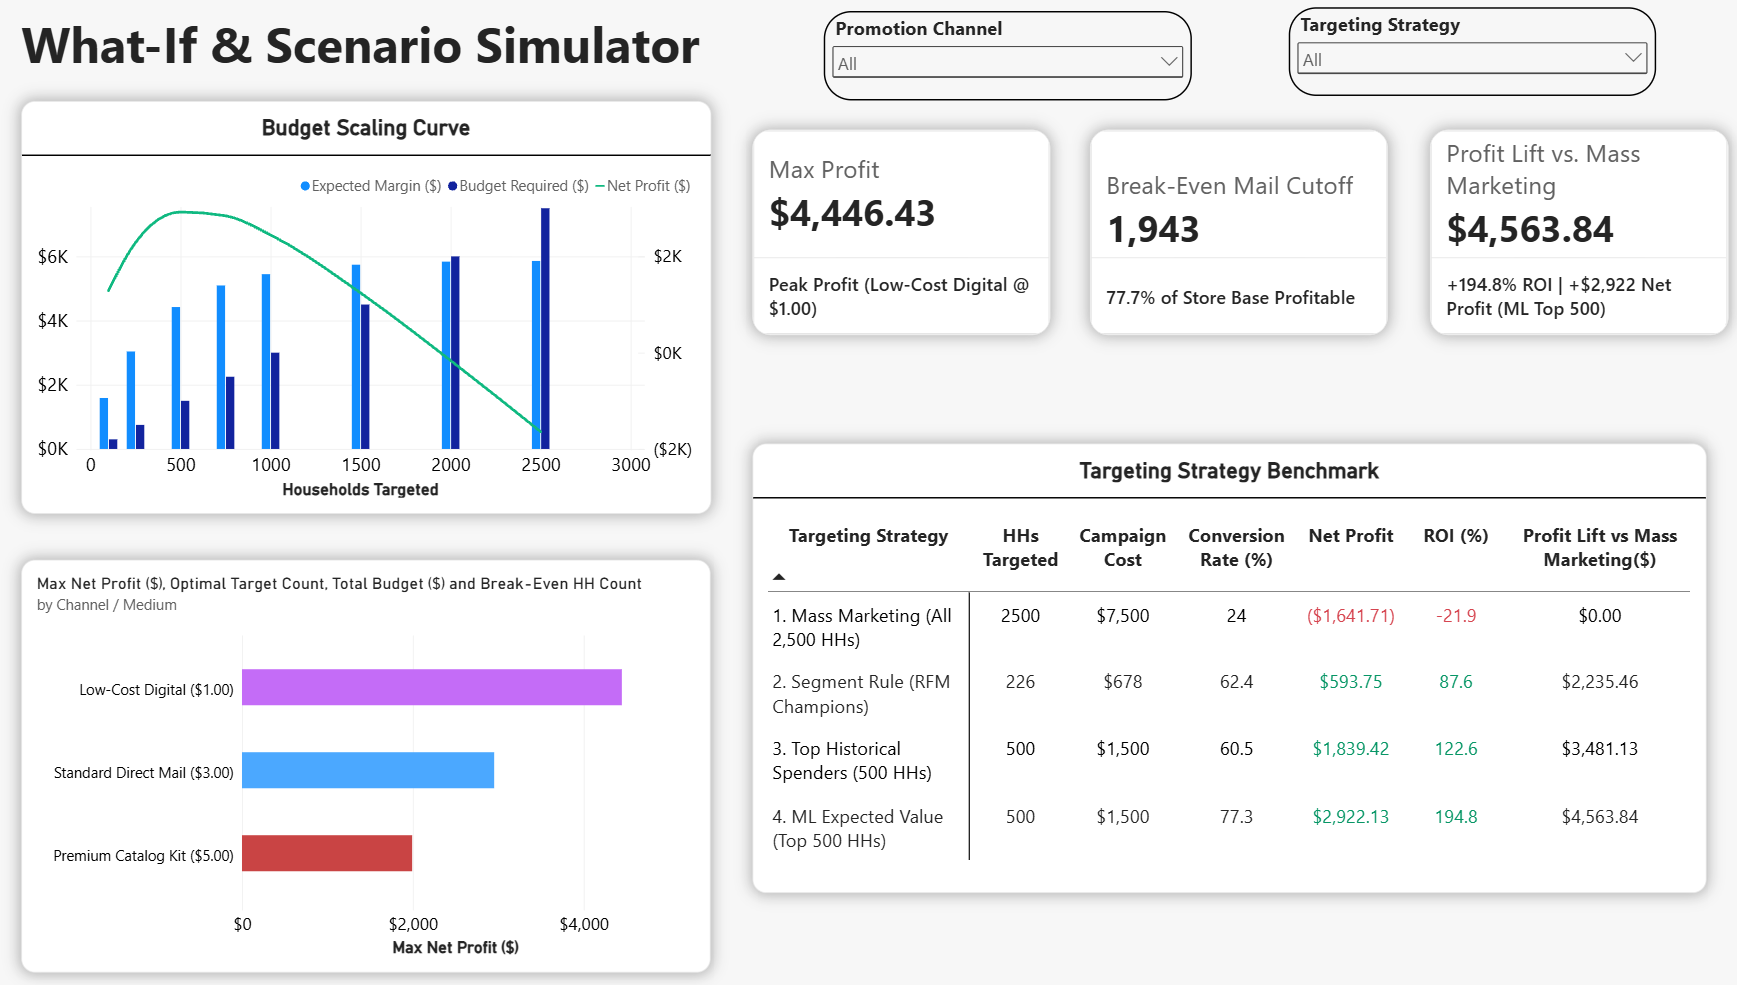

The page's visual inventory and layout, read from the dashboard file:
{"tool":"powerbi","page":{"name":"Scenario Simulator","canvas":[1920,1080],"ordinal":4},"visuals":[{"type":"textbox","box":[45.2,14.5,819.8,95.9],"z":0},{"type":"slicer","fields":{"Values":["pbi_scenario_channel_costs.Channel / Medium"]},"box":[921.1,16.3,401.7,97.7],"z":1},{"type":"slicer","fields":{"Values":["pbi_strategy_lift_benchmarks.Targeting Strategy"]},"box":[1427.8,12.7,401,97],"z":2},{"type":"cardVisual","fields":{"Data":["page5_measures.Channel Max Profit"]},"box":[843.3,146.6,325,224],"z":3},{"type":"cardVisual","fields":{"Data":["page5_measures.Selected Channel Break Even HHs"]},"box":[1210.7,146.6,325,224],"z":4},{"type":"cardVisual","fields":{"Data":["page5_measures.Selected Strategy Profit Lift"]},"box":[1581.6,146.6,325.7,224.4],"z":5},{"type":"lineClusteredColumnComboChart","title":"Budget Scaling Curve","fields":{"Category":["pbi_scenario_budgets.Households Targeted"],"Y":["Sum(pbi_scenario_budgets.Expected Margin ($))","Sum(pbi_scenario_budgets.Budget Required ($))"],"Y2":["Sum(pbi_scenario_budgets.Net Profit ($))"]},"box":[45.2,114,752.8,450.6],"z":6},{"type":"clusteredBarChart","fields":{"Category":["pbi_scenario_channel_costs.Channel / Medium"],"Y":["Sum(pbi_scenario_channel_costs.Max Net Profit ($))"]},"box":[45.2,615.3,752,450],"z":7},{"type":"pivotTable","title":"Targeting Strategy Benchmark","fields":{"Rows":["pbi_strategy_lift_benchmarks.Targeting Strategy"],"Values":["Sum(pbi_strategy_lift_benchmarks.Households Targeted)","Sum(pbi_strategy_lift_benchmarks.Campaign Cost ($))","Sum(pbi_strategy_lift_benchmarks.Conversion Rate (%))","Sum(pbi_strategy_lift_benchmarks.Net Profit ($))","Sum(pbi_strategy_lift_benchmarks.ROI (%))","Sum(pbi_strategy_lift_benchmarks.Profit Lift vs Mass ($))"]},"box":[843.3,488.6,1040.6,490.4],"z":8}]}

Visuals, with their boxes in screenshot pixels (x1, y1, x2, y2), scaled from the page's 1920x1080 canvas onto the 1737x985 screenshot:
textbox: 41 13 783 101
slicer - pbi_scenario_channel_costs.Channel / Medium: 833 15 1197 104
slicer - pbi_strategy_lift_benchmarks.Targeting Strategy: 1292 12 1654 100
cardVisual - page5_measures.Channel Max Profit: 763 134 1057 338
cardVisual - page5_measures.Selected Channel Break Even HHs: 1095 134 1389 338
cardVisual - page5_measures.Selected Strategy Profit Lift: 1431 134 1726 338
"Budget Scaling Curve" lineClusteredColumnComboChart: 41 104 722 515
clusteredBarChart - pbi_scenario_channel_costs.Channel / Medium x Sum(pbi_scenario_channel_costs.Max Net Profit ($)): 41 561 721 972
"Targeting Strategy Benchmark" pivotTable: 763 446 1704 893
